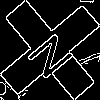N: (25, 25, 84, 82)
